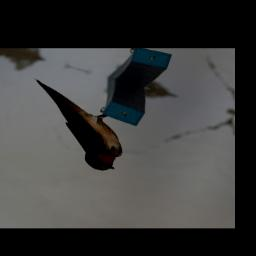Swallow: (1, 77, 148, 176)
